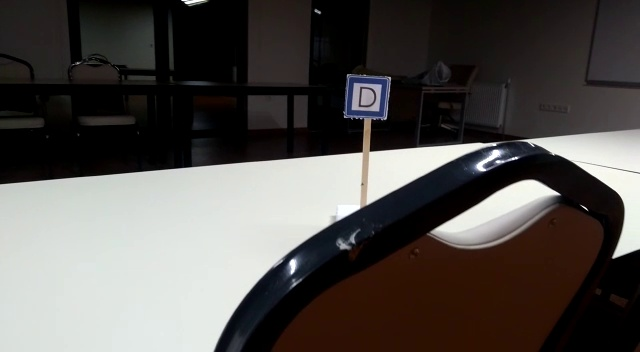durak: (344, 74, 392, 118)
